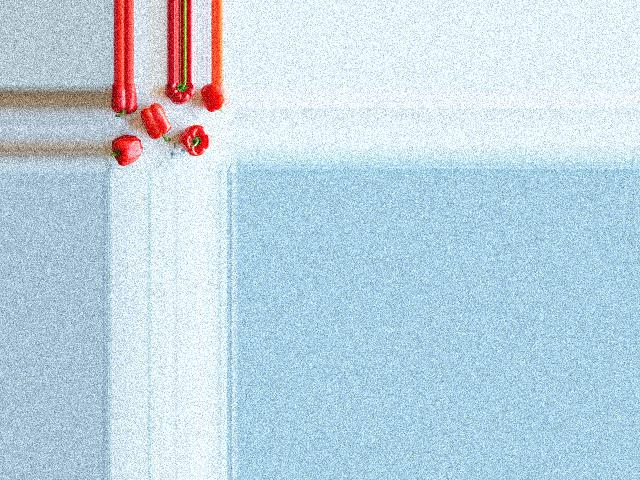bell_pepper: (164, 83, 194, 105)
